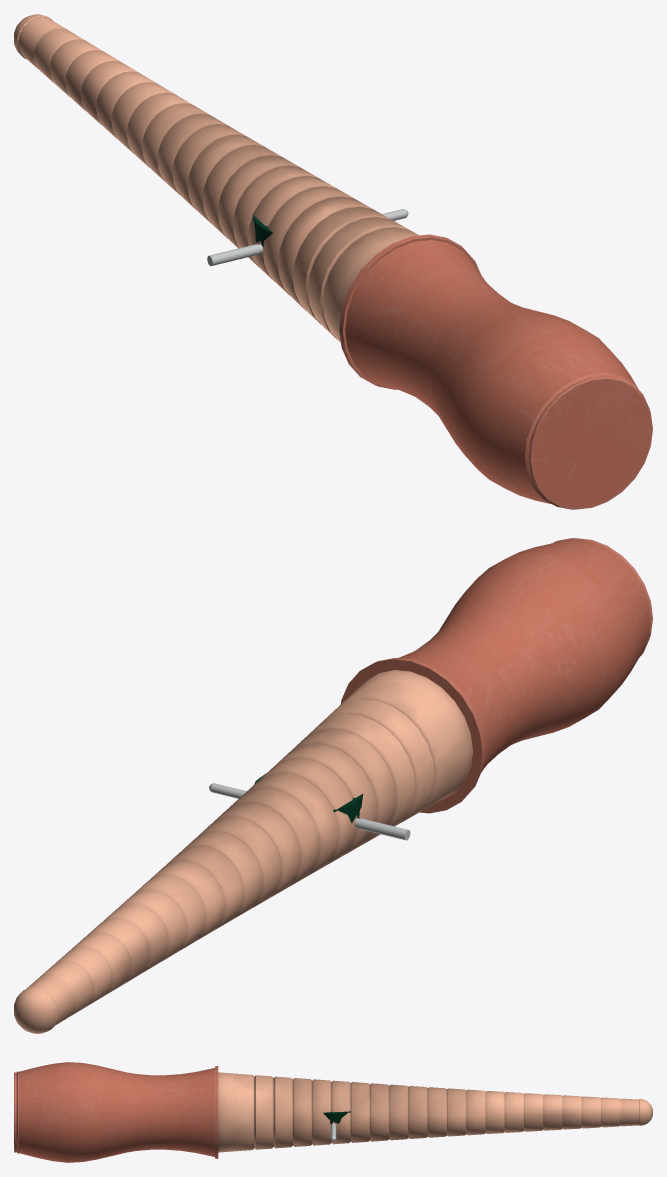
3 renders of one model, top to bottom at view 1: azimuth 30°, elevation 25°; view 2: azimuth 150°, elevation 25°; view 3: azimuth 270°, elevation 25°, orthographic. The views are drawn at different scales.
Parts seen in each view (by area): view 1: 210_JieZhiBang, 210_DaMoJi_3.0MoZhen; view 2: 210_JieZhiBang, 210_DaMoJi_3.0MoZhen; view 3: 210_JieZhiBang, 210_JieQuan_DaMo.
Part boxes in pixels (x1,y1,x2,y2): 210_JieZhiBang: [14, 14, 652, 509]; 210_DaMoJi_3.0MoZhen: [207, 209, 408, 266]; 210_JieZhiBang: [14, 538, 652, 1033]; 210_DaMoJi_3.0MoZhen: [209, 783, 410, 840]; 210_JieZhiBang: [14, 1062, 652, 1162]; 210_JieQuan_DaMo: [323, 1111, 350, 1124].
Bounding box in the file's own units: 4.87 × 3.82 × 24.14.
1 material, 1 textured.
